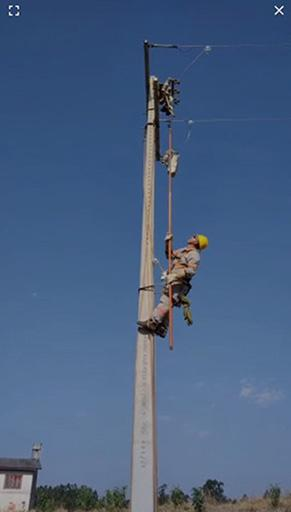Vara_Manobra: (166, 120, 174, 351)
